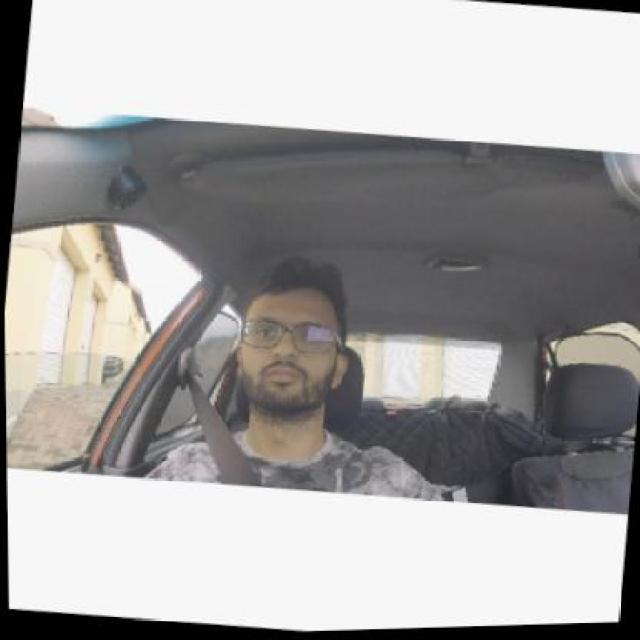person: (232, 262, 352, 418)
